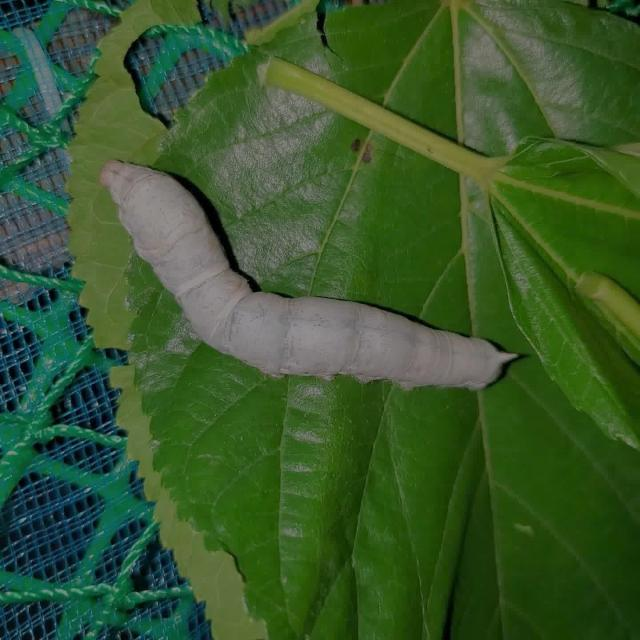Healthy: (94, 148, 522, 408)
